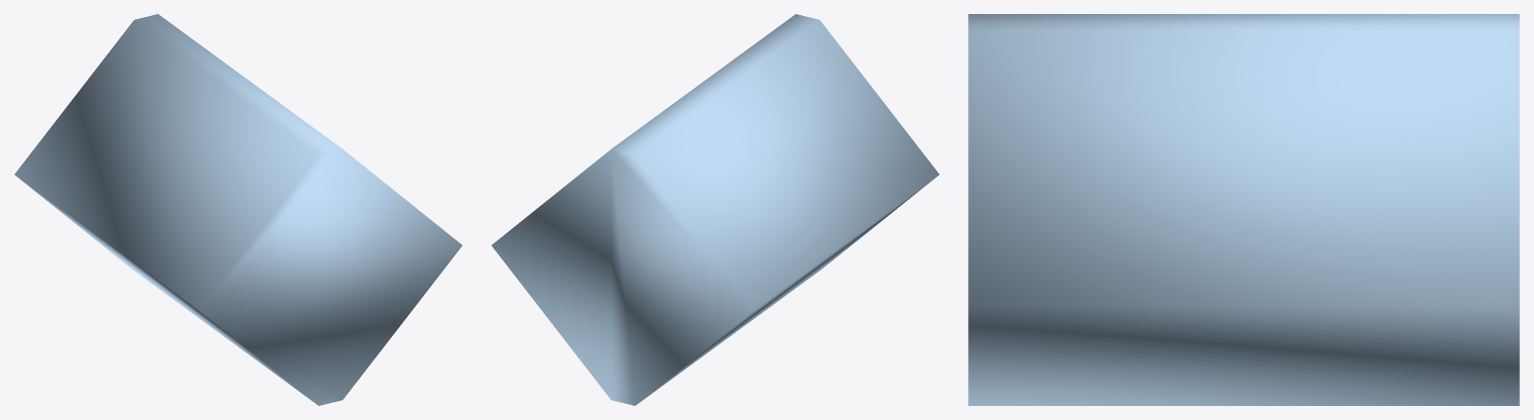
File: tanzanite.glb
The picture shows the model from 3 angles, left to right: view 1: azimuth 30°, elevation 25°; view 2: azimuth 150°, elevation 25°; view 3: azimuth 270°, elevation 25°; orthographic projection. The views are drawn at different scales.
Visible parts, largest first — view 1: tanzanite; view 2: tanzanite; view 3: tanzanite.
Part boxes in pixels (bbox=[...]): tanzanite: bbox=[14, 14, 462, 405]; tanzanite: bbox=[491, 14, 939, 405]; tanzanite: bbox=[968, 14, 1519, 405].
Size of the model in its own units: 1.98 by 1.8 by 2.4.
